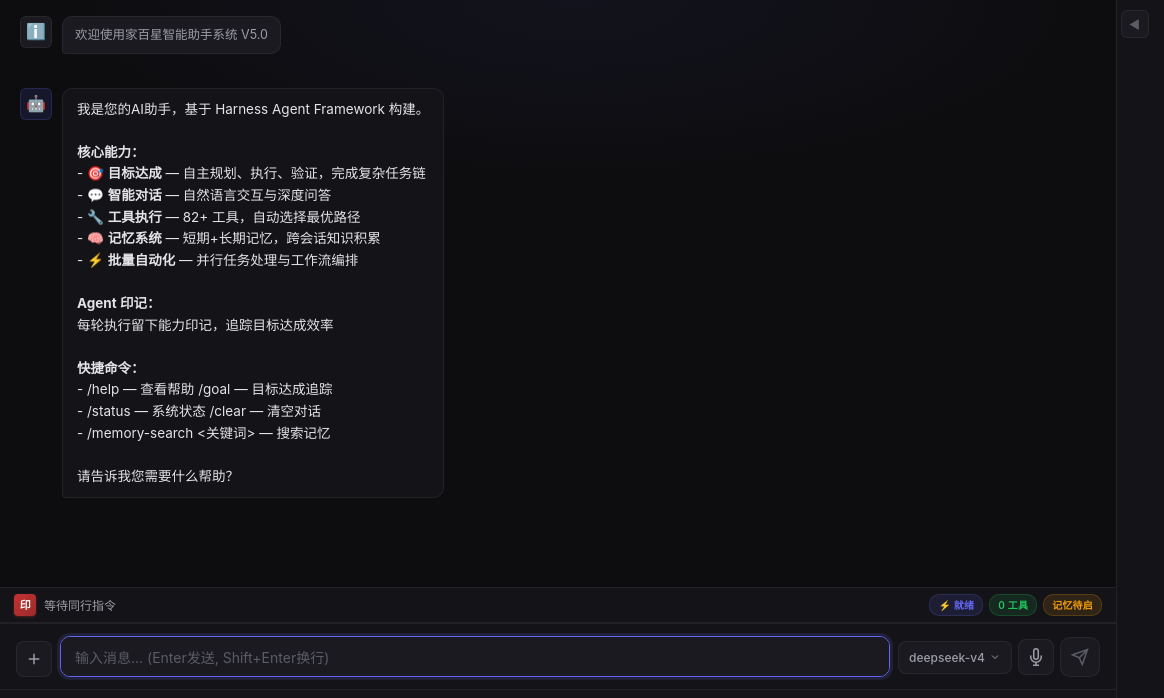
Test: DesktopDashboard › right sidebar expands on click to show info cards
Click the button titled "展开信息面板" at (1134, 24), box top-left (1120, 10), bottom-right (1148, 38)
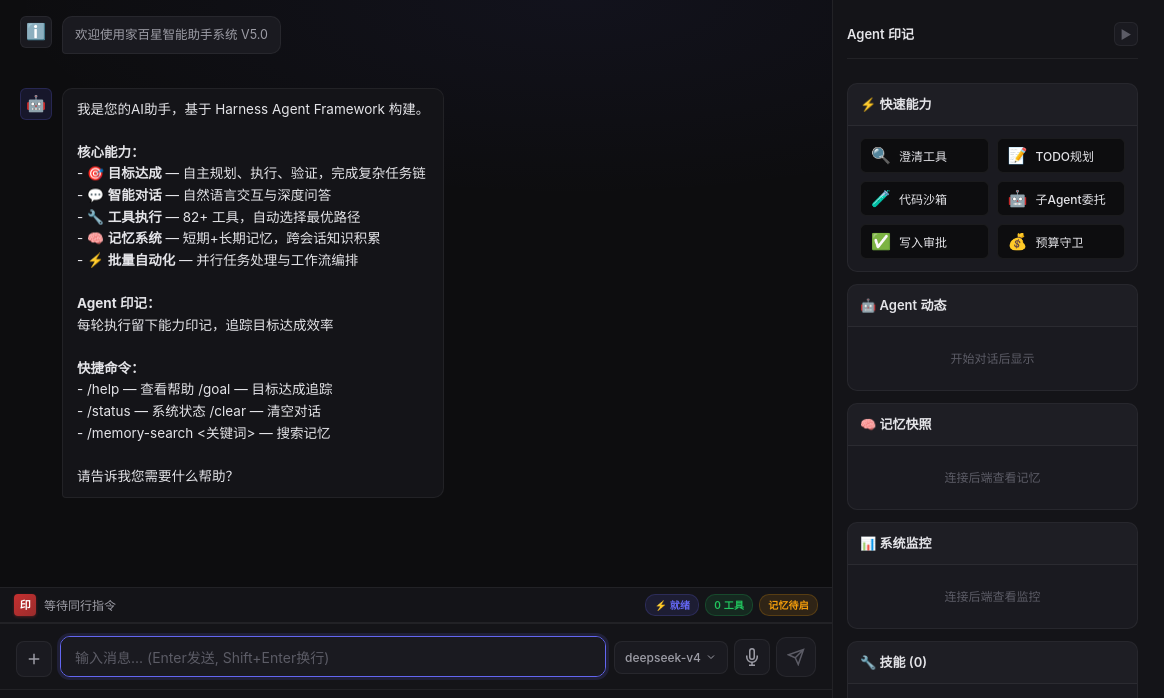
Expected: the text "⚡ 快速能力" is shown, top-left (860, 94), bottom-right (932, 115)
Expected: the text "🤖 Agent 动态" is shown, top-left (860, 295), bottom-right (946, 316)
Expected: the text "🧠 记忆快照" is shown, top-left (860, 414), bottom-right (932, 435)
